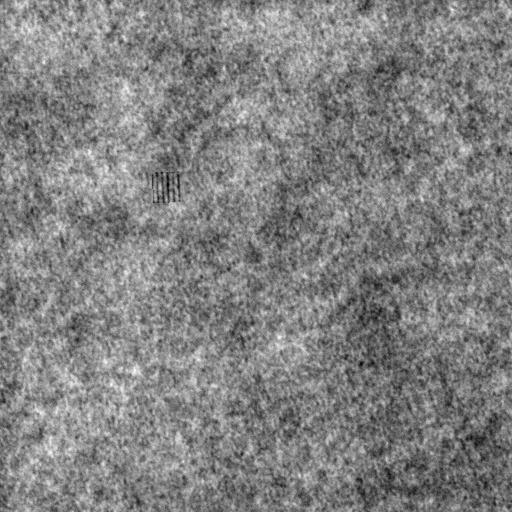DefectTypeB: (151, 171, 181, 205)
